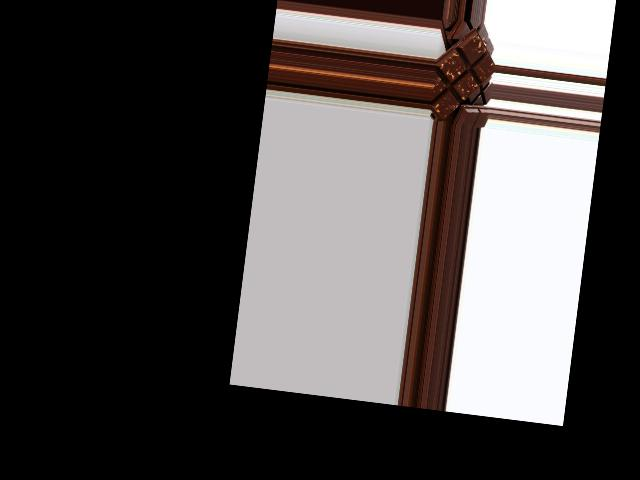chocolate: (428, 30, 497, 125)
